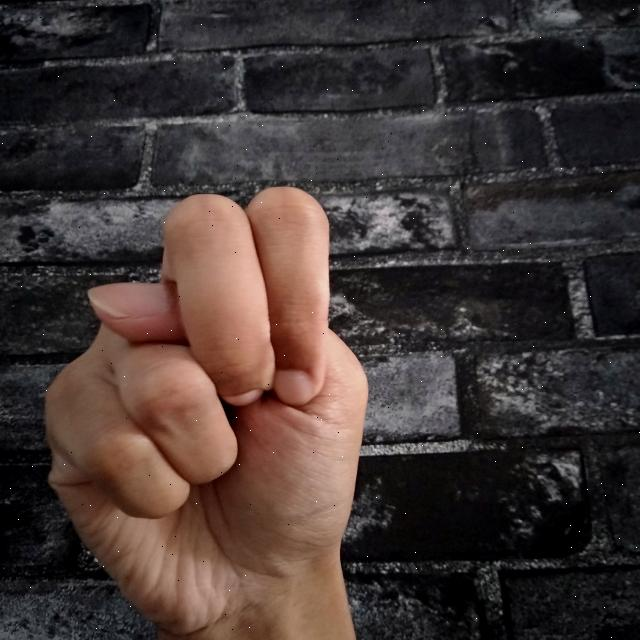N: (34, 182, 377, 640)
